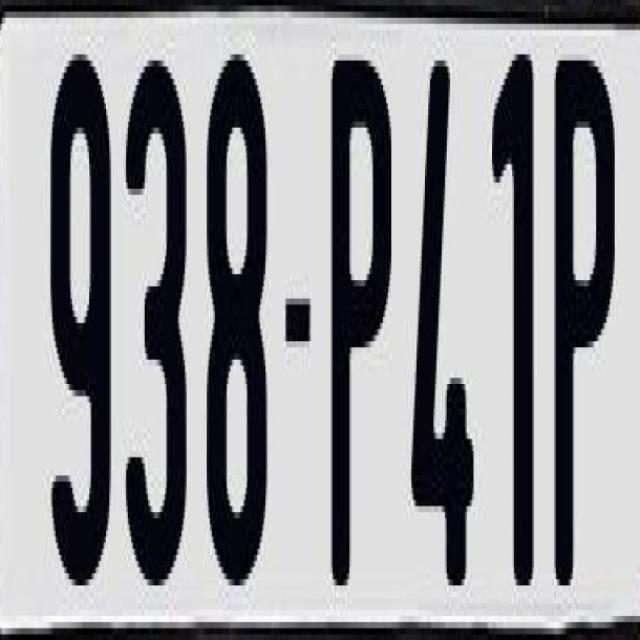license-plate: (4, 6, 640, 619)
